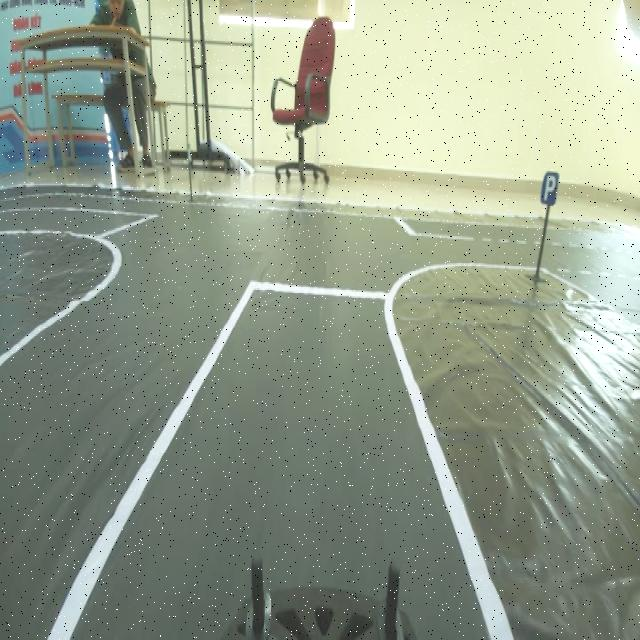parking: (539, 168, 560, 209)
